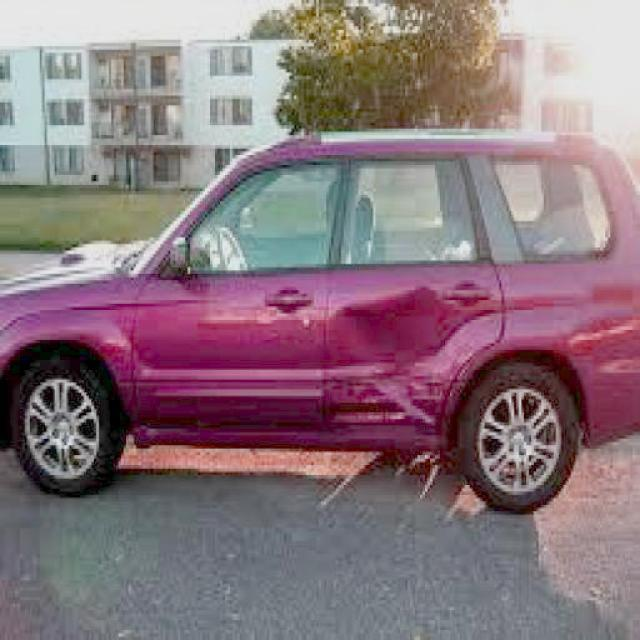car damage: (326, 282, 510, 433)
